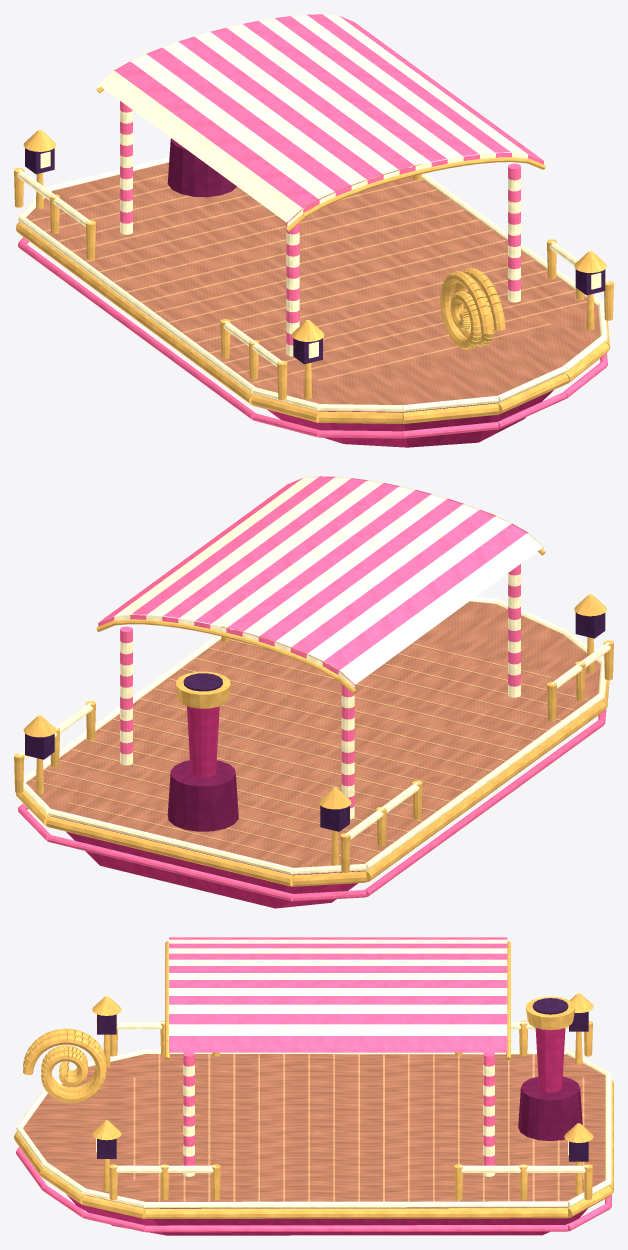
The model's file is Sugar-Swirl-Steamer.glb.
3 renders of one model, top to bottom at view 1: azimuth 30°, elevation 25°; view 2: azimuth 150°, elevation 25°; view 3: azimuth 270°, elevation 25°, orthographic. The views are drawn at different scales.
Bounding box in the file's own units: 5.51 × 3.4 × 8.9.
Materials: 42 (42 with a texture image).
